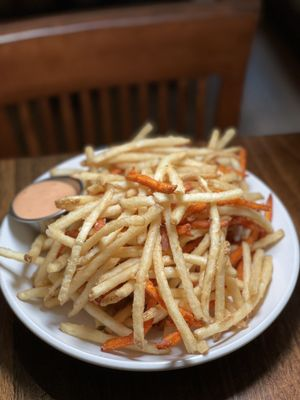curry: (0, 106, 299, 400)
